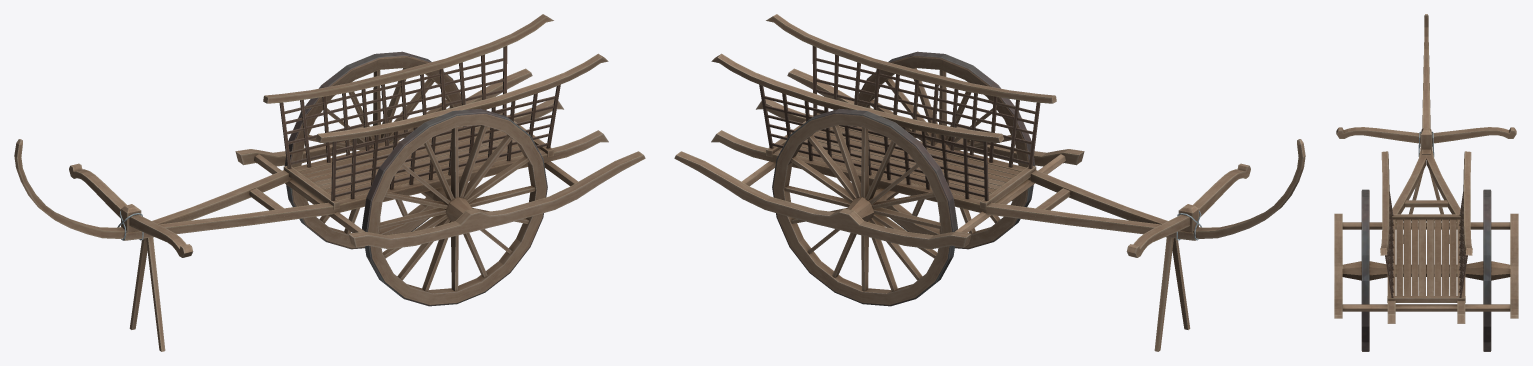
File: Prop_Oxcart.fbx
3 renders of one model, left to right at view 1: azimuth 30°, elevation 25°; view 2: azimuth 150°, elevation 25°; view 3: azimuth 270°, elevation 25°, orthographic. The views are drawn at different scales.
Parts seen in each view (by area): view 1: Prop_Oxcart; view 2: Prop_Oxcart; view 3: Prop_Oxcart.
Boxes of the visible parts, <box> form: Prop_Oxcart: <box>14,14,645,351</box>; Prop_Oxcart: <box>674,14,1305,351</box>; Prop_Oxcart: <box>1334,14,1518,351</box>.
Bounding box in the file's own units: 308 × 119 × 111.
